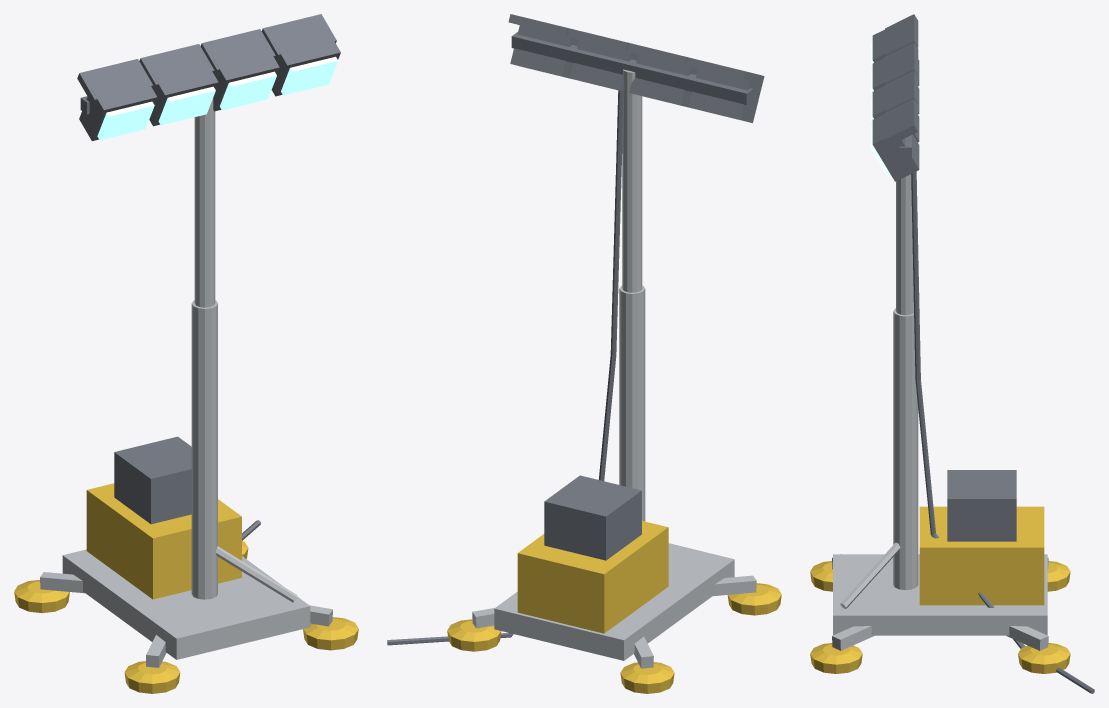
The model's file is ufo-crash-site-and-recovery-facility-floodlight-rig-e6be9e9f__17341.glb.
3 renders of one model, left to right at view 1: azimuth 30°, elevation 25°; view 2: azimuth 150°, elevation 25°; view 3: azimuth 270°, elevation 25°, orthographic. The views are drawn at different scales.
Parts seen in each view (by area): view 1: floodlight-rig, head (×2); view 2: floodlight-rig, head; view 3: floodlight-rig, head (×2).
Part boxes in pixels (x1,y1,x2,y2): floodlight-rig: [14, 98, 358, 693]; head (×2): [77, 14, 340, 141]; floodlight-rig: [387, 69, 781, 693]; head: [508, 14, 764, 122]; floodlight-rig: [810, 171, 1094, 693]; head (×2): [870, 14, 919, 181].
Size of the model in its own units: 2.16 by 4.42 by 2.05.
